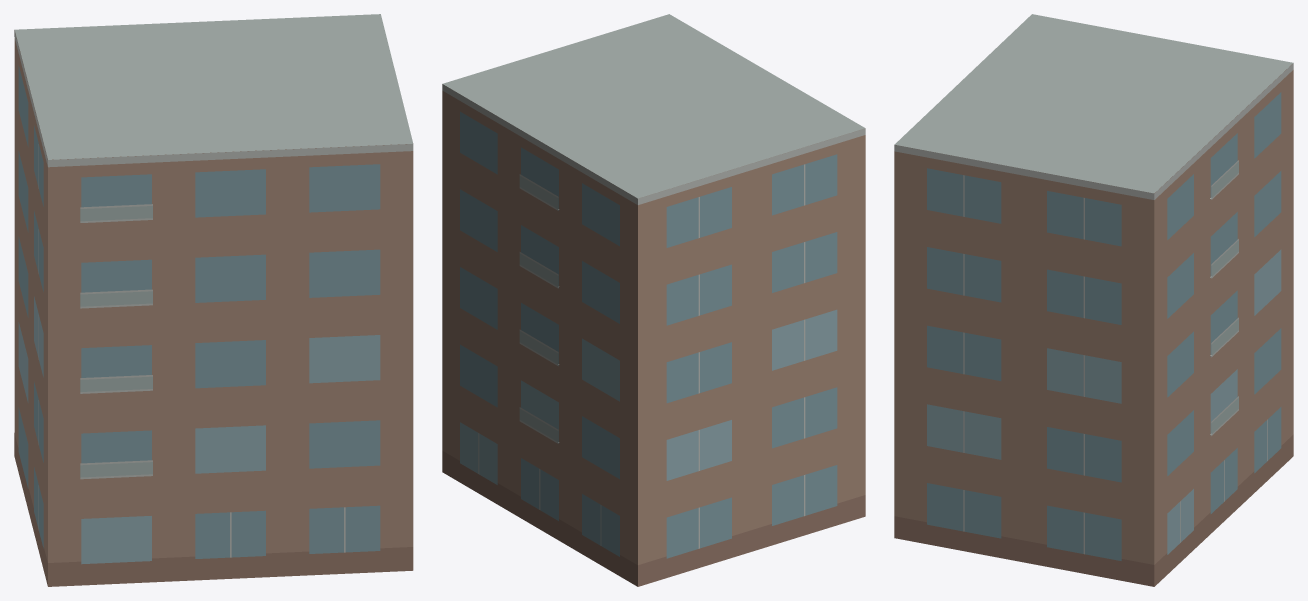
Rendered from survey-upis-32534929.glb.
3 views of the same model, side by side, from view 1: azimuth 30°, elevation 25°; view 2: azimuth 150°, elevation 25°; view 3: azimuth 270°, elevation 25° (orthographic). The views are drawn at different scales.
Parts seen in each view (by area): view 1: survey-upis-32534929.tmp; view 2: survey-upis-32534929.tmp; view 3: survey-upis-32534929.tmp.
Boxes of the visible parts, x1=… form: survey-upis-32534929.tmp: x1=14, y1=14, x2=413, y2=586; survey-upis-32534929.tmp: x1=442, y1=14, x2=865, y2=586; survey-upis-32534929.tmp: x1=894, y1=14, x2=1293, y2=586.
Size of the model in its own units: 14 by 14.3 by 13.16.
